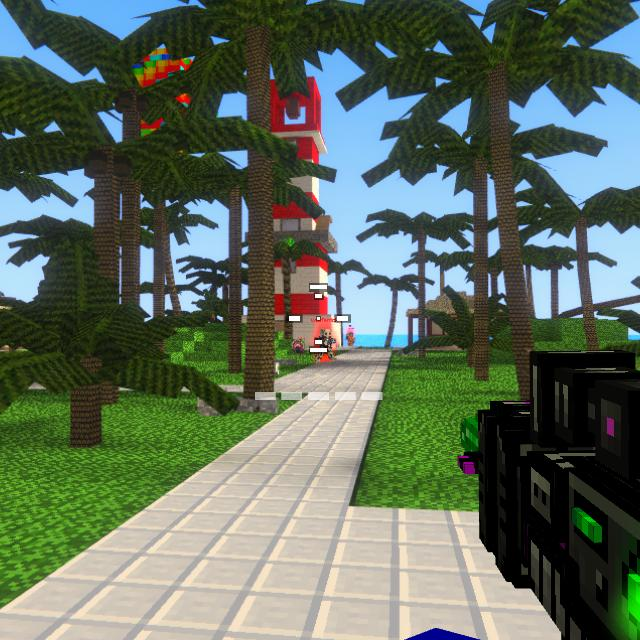Enemy: (314, 329, 336, 362), (346, 332, 355, 346)
